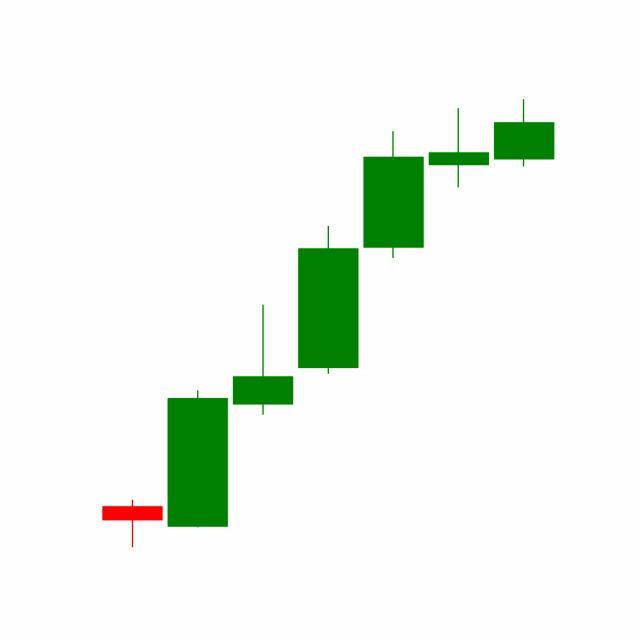Advance Block: (295, 106, 492, 378)
